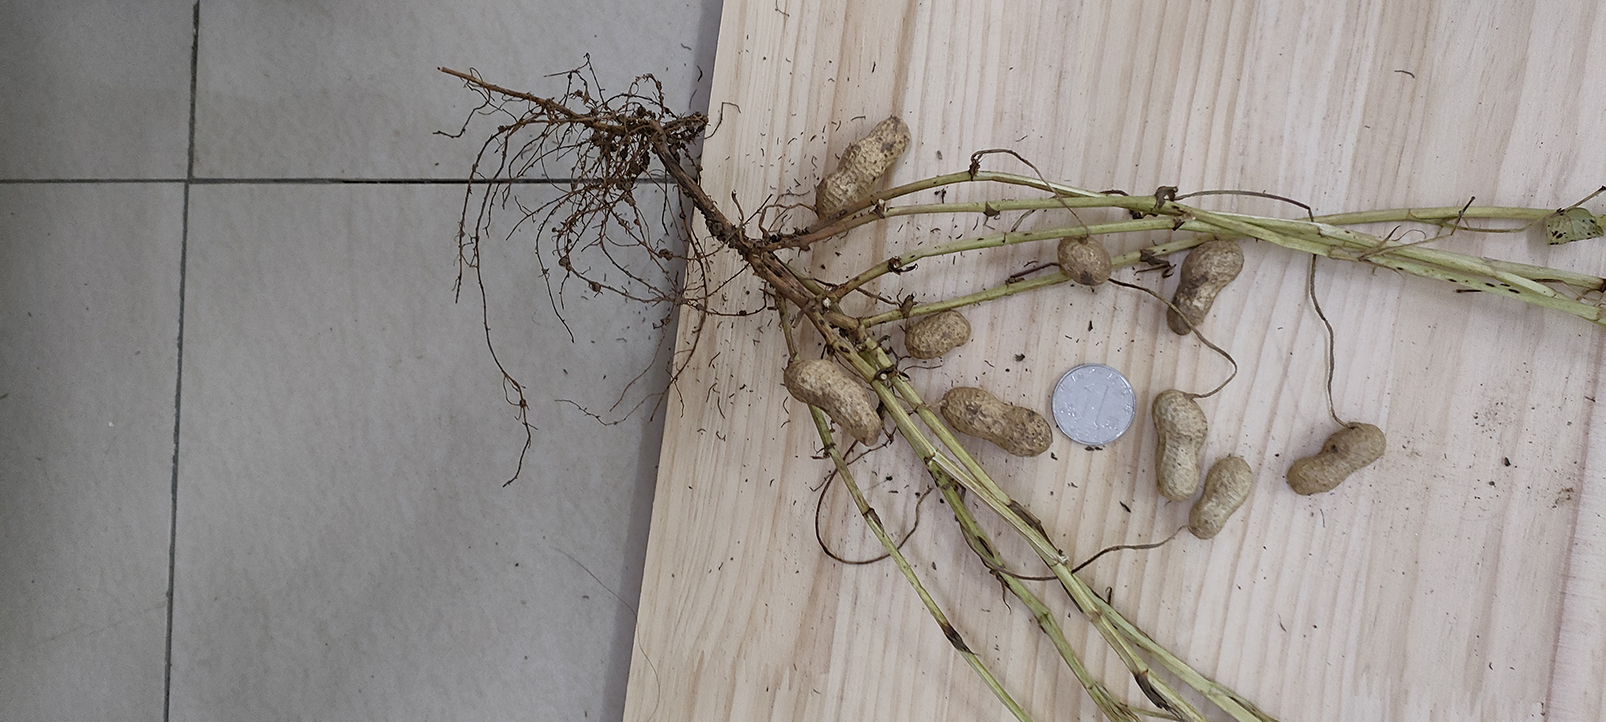h: (813, 112, 913, 222), (783, 358, 882, 445), (942, 385, 1052, 458), (1288, 421, 1387, 494), (1151, 391, 1207, 500), (1188, 455, 1254, 538), (904, 309, 974, 360), (1056, 235, 1112, 287)
l: (1167, 237, 1244, 335)
